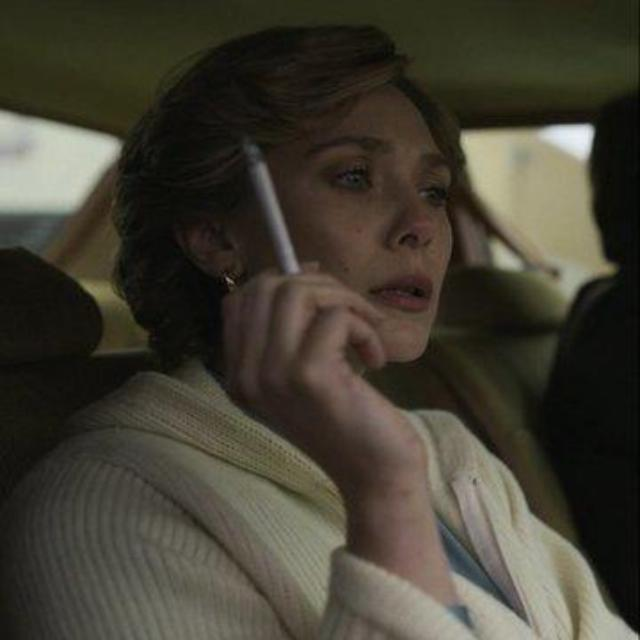rokok: (234, 132, 302, 276)
